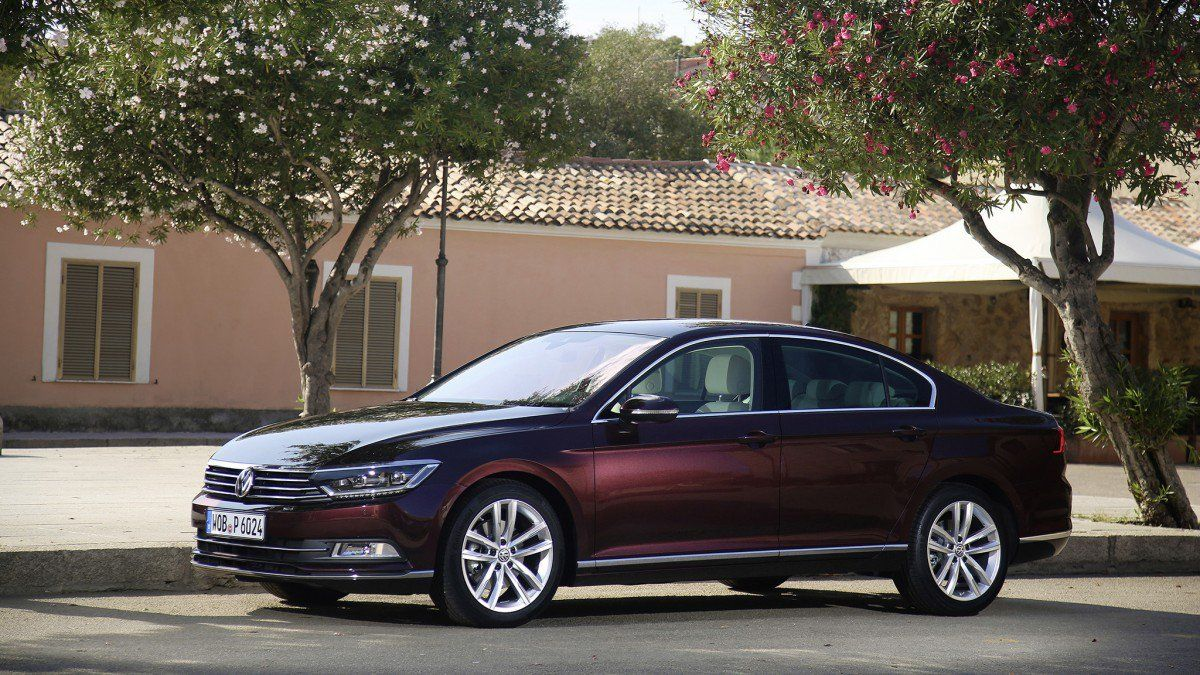car: (188, 318, 1073, 631)
